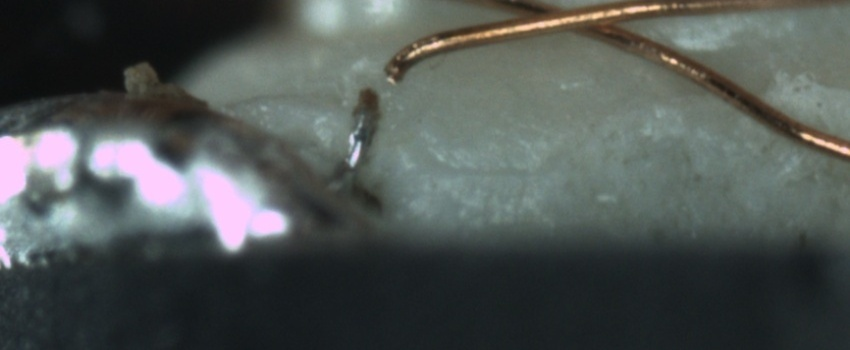CL: (500, 2, 651, 43)
DL: (415, 138, 545, 200)
